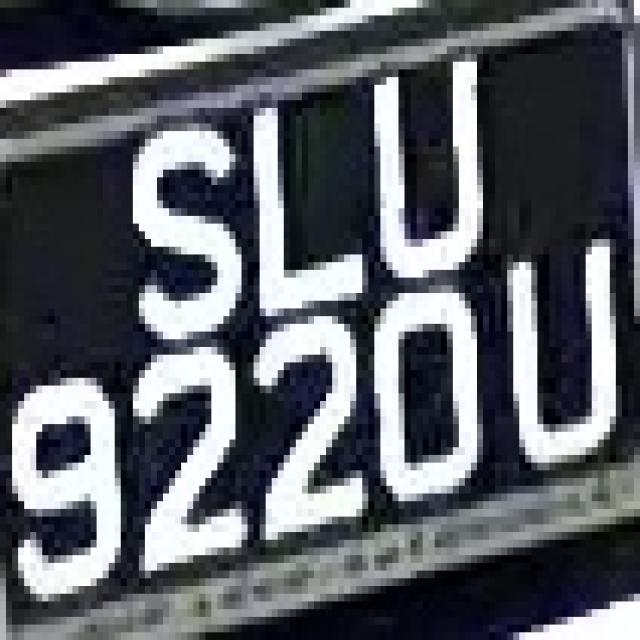0: (350, 270, 483, 517)
2: (126, 316, 248, 594), (242, 316, 374, 555)
9: (6, 347, 127, 632)
L: (242, 77, 362, 309)
S: (120, 93, 254, 347)
U: (501, 231, 622, 486), (362, 54, 489, 285)
